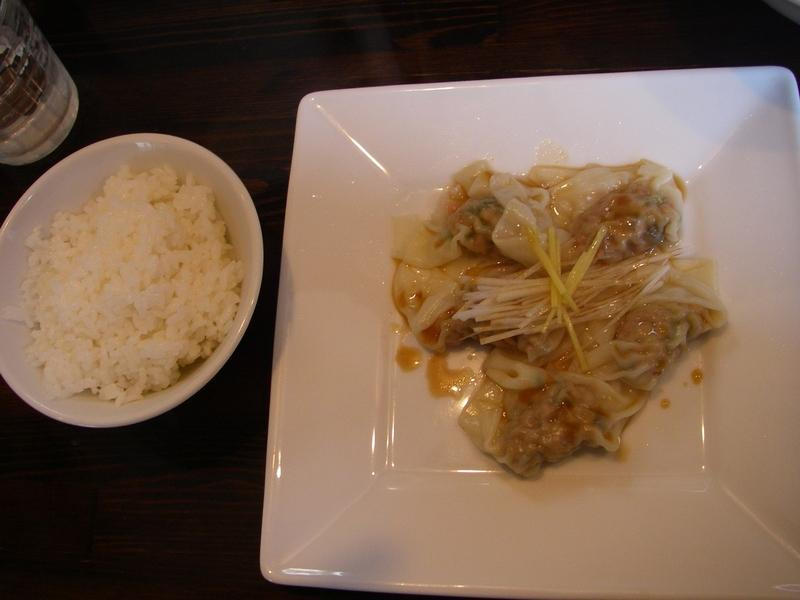rice: (21, 168, 244, 404)
